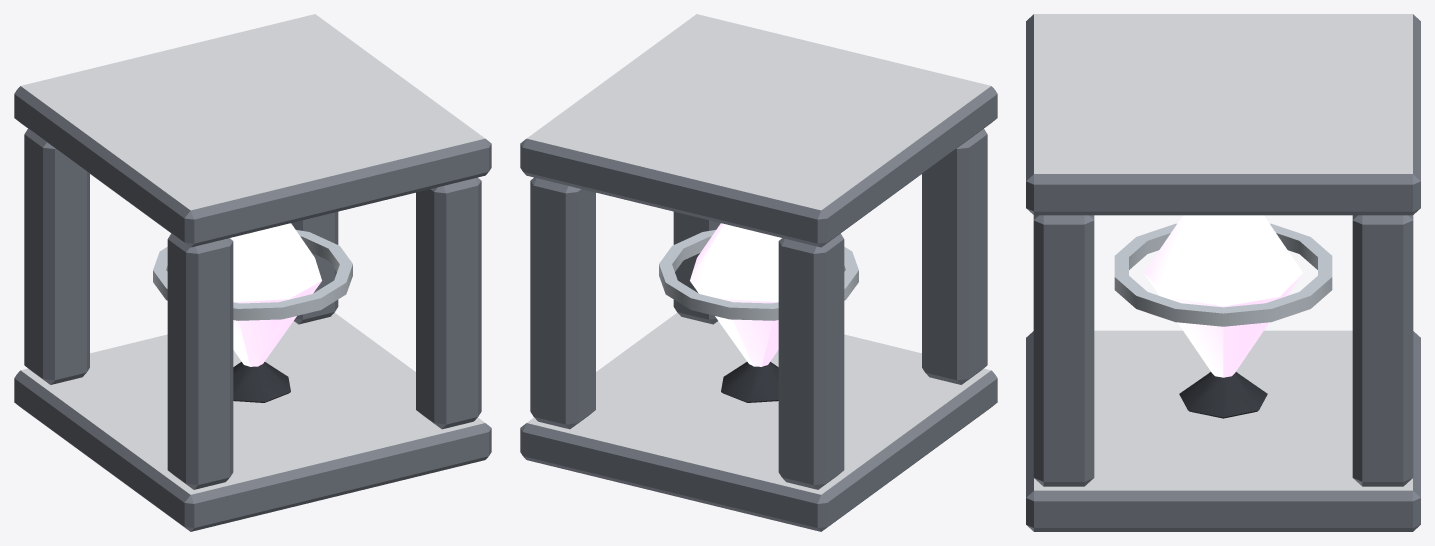
Rendered from R4X_CoreBooster_LOD1.fbx.
The picture shows the model from 3 angles, left to right: view 1: azimuth 30°, elevation 25°; view 2: azimuth 150°, elevation 25°; view 3: azimuth 270°, elevation 25°; orthographic projection. The views are drawn at different scales.
Visible parts, largest first — view 1: R4X_CoreBooster_LOD1; view 2: R4X_CoreBooster_LOD1; view 3: R4X_CoreBooster_LOD1.
Boxes of the visible parts, bbox=[...] form: R4X_CoreBooster_LOD1: bbox=[14, 14, 491, 531]; R4X_CoreBooster_LOD1: bbox=[520, 14, 997, 531]; R4X_CoreBooster_LOD1: bbox=[1026, 14, 1420, 531].
Bounding box in the file's own units: 0.52 × 0.52 × 0.52.
